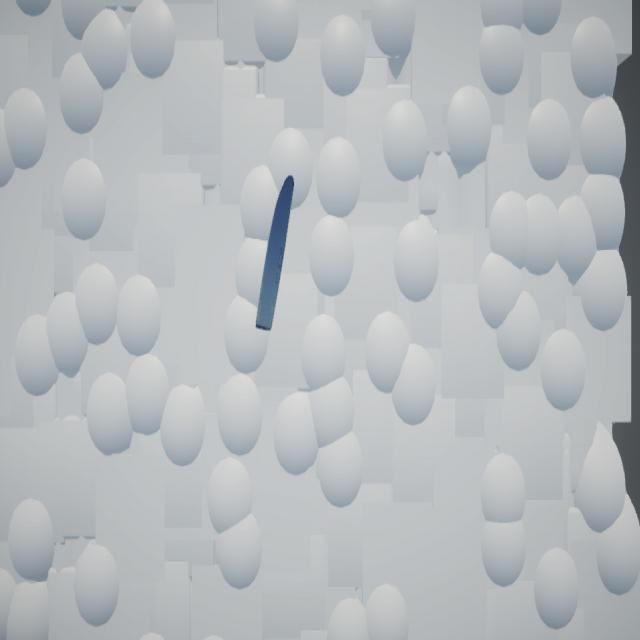top_knife: (257, 176, 296, 332)
